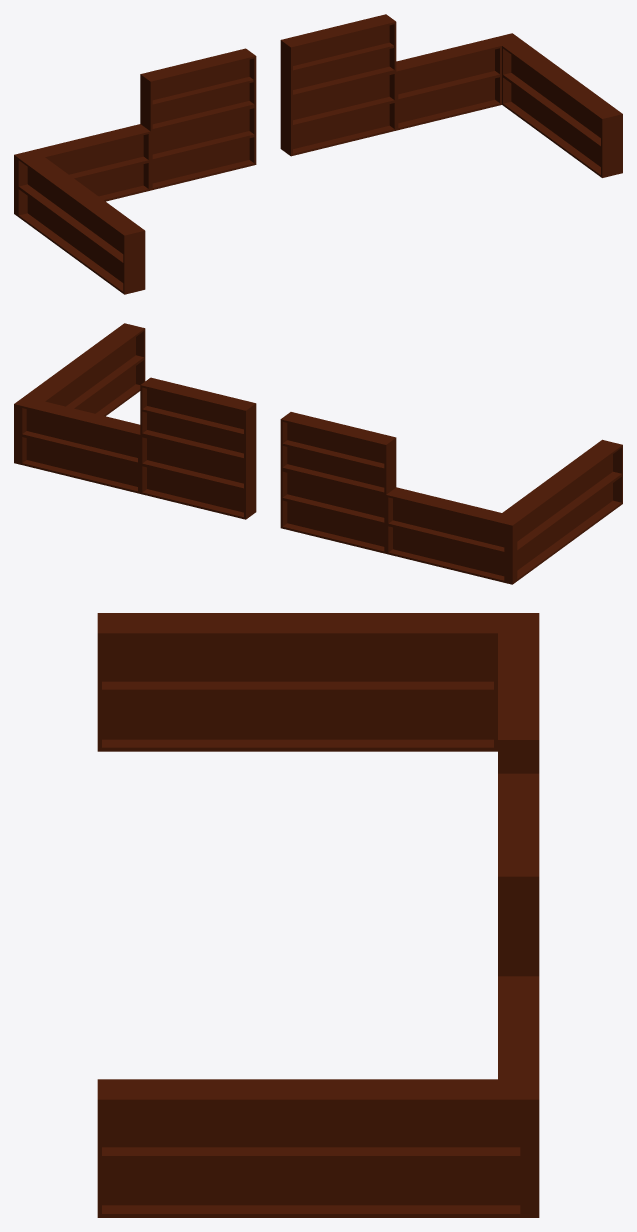
Rendered from Nonfic_bookshelf.glb.
The picture shows the model from 3 angles, top to bottom: view 1: azimuth 30°, elevation 25°; view 2: azimuth 150°, elevation 25°; view 3: azimuth 270°, elevation 25°; orthographic projection. The views are drawn at different scales.
Visible parts, largest first — view 1: Cube.018; view 2: Cube.018; view 3: Cube.018.
Boxes of the visible parts, bbox=[...] form: Cube.018: bbox=[14, 14, 622, 294]; Cube.018: bbox=[14, 323, 622, 584]; Cube.018: bbox=[97, 613, 539, 1217].
Bounding box in the file's own units: 55.74 × 11.64 × 21.4.
